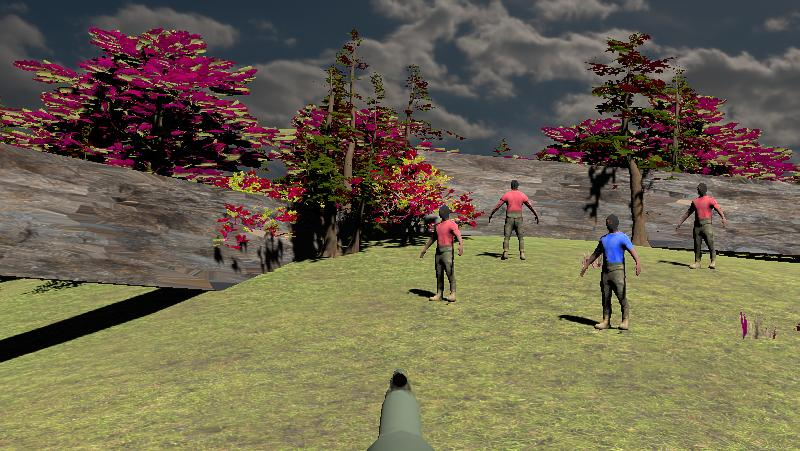Human: (580, 214, 640, 331), (420, 206, 462, 303), (489, 179, 539, 260), (678, 183, 725, 269)
